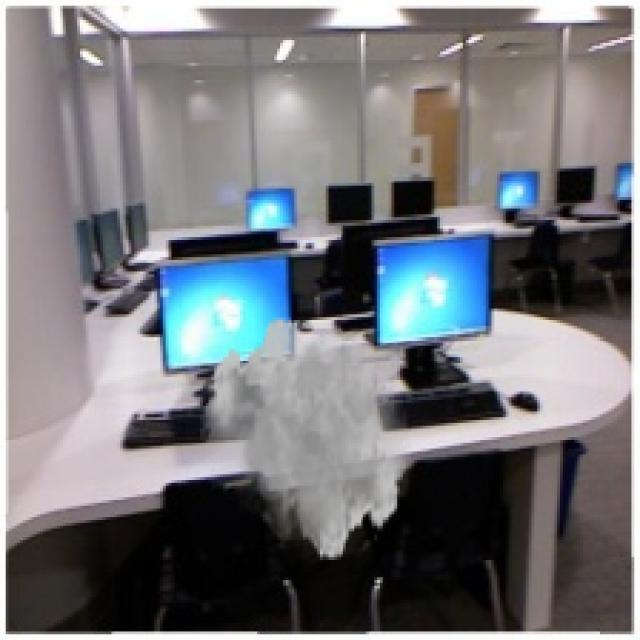Smoke: (200, 314, 412, 563)
